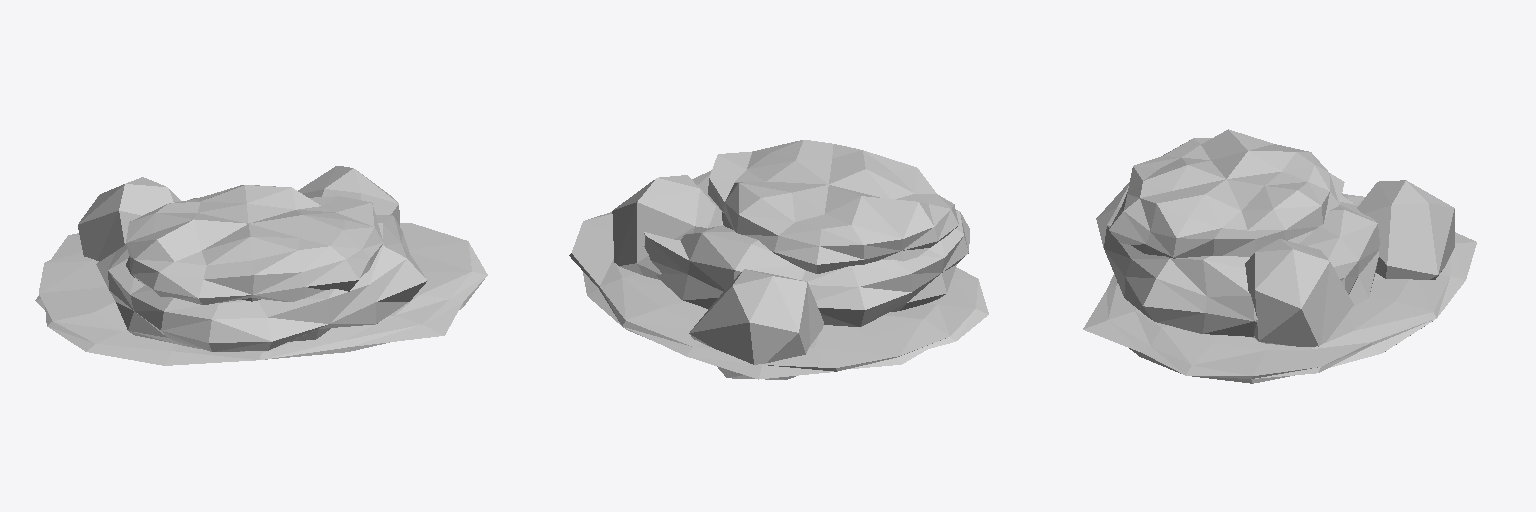
The model's file is Rock3.obj.
3 views of the same model, side by side, from view 1: azimuth 30°, elevation 25°; view 2: azimuth 150°, elevation 25°; view 3: azimuth 270°, elevation 25° (orthographic).
Visible parts, largest first — view 1: Plane.002; view 2: Plane.002; view 3: Plane.002.
Part boxes in pixels (x1,y1,x2,y2): Plane.002: (35, 166, 487, 365); Plane.002: (569, 140, 988, 379); Plane.002: (1083, 129, 1476, 383).
Size of the model in its own units: 6.75 by 2.18 by 5.81.